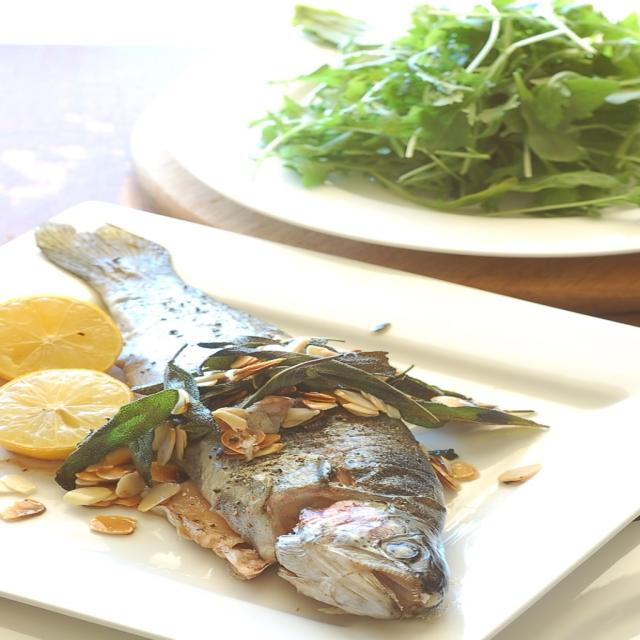Lemon: (2, 372, 138, 457), (2, 303, 123, 377)
